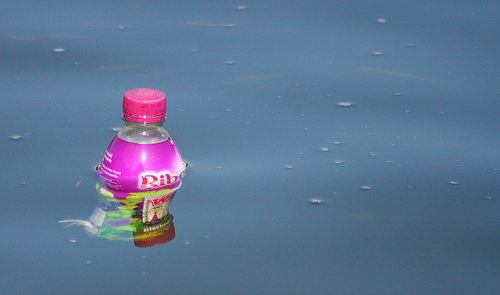litter: (91, 88, 184, 242)
